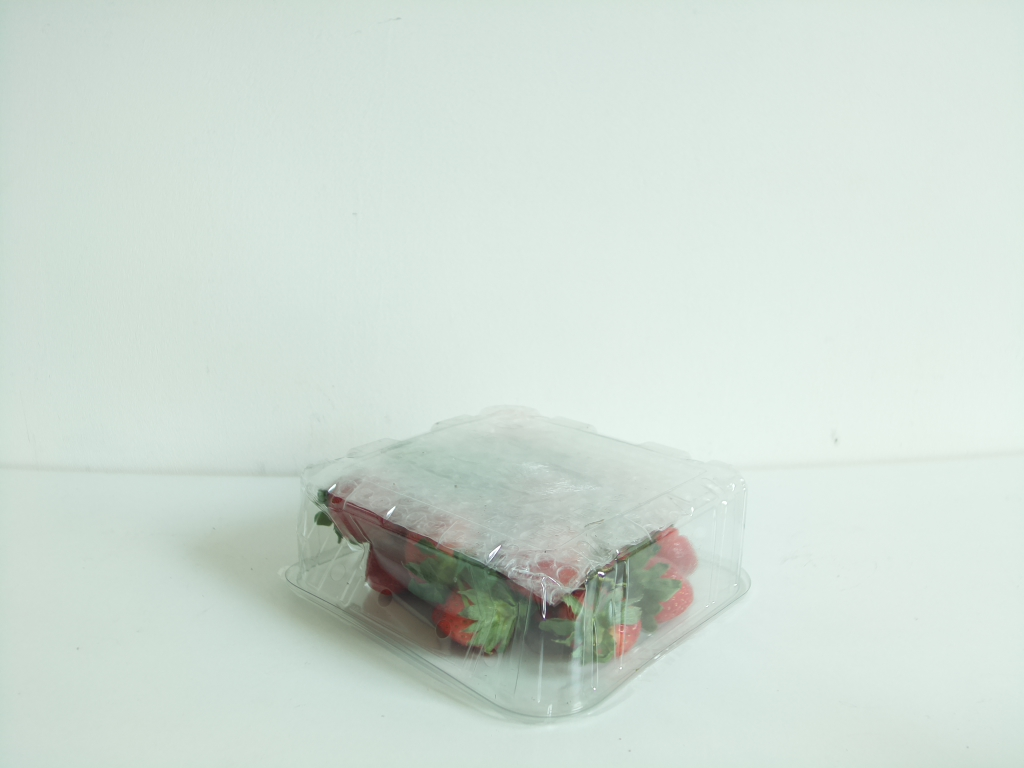soft-fruit: (277, 401, 763, 728)
